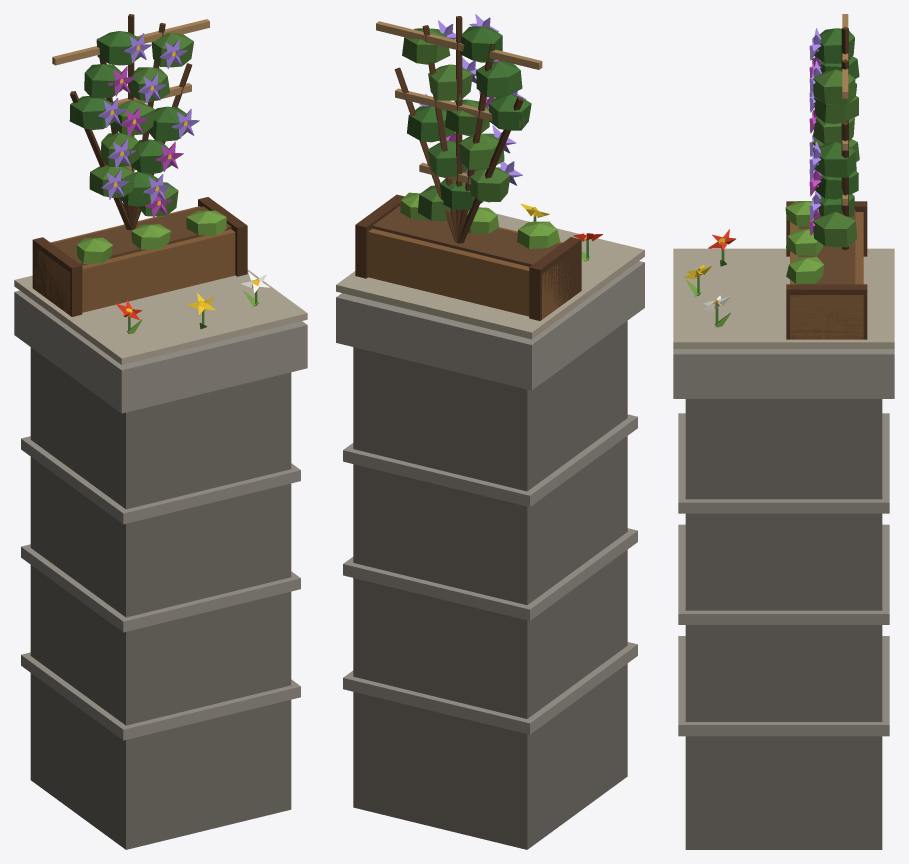
Rendered from decor_vine_trellis.glb.
3 renders of one model, left to right at view 1: azimuth 30°, elevation 25°; view 2: azimuth 150°, elevation 25°; view 3: azimuth 270°, elevation 25°, orthographic. The views are drawn at different scales.
Visible parts, largest first — view 1: decor_vine_trellis; view 2: decor_vine_trellis; view 3: decor_vine_trellis.
Boxes of the visible parts, x1,y1,x2,y2 form: decor_vine_trellis: (14, 14, 307, 849); decor_vine_trellis: (336, 14, 644, 849); decor_vine_trellis: (673, 14, 894, 849).
Bounding box in the file's own units: 1.8 × 7.01 × 1.8.
